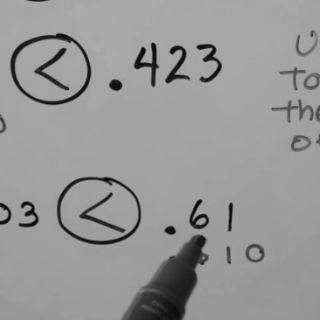.: (163, 222, 177, 236)
0: (244, 238, 266, 264), (108, 75, 124, 93)
1: (225, 199, 237, 232), (223, 245, 235, 266)
2: (165, 42, 191, 86)
3: (194, 40, 223, 84), (17, 198, 42, 228)
4: (131, 41, 162, 87)
6: (186, 196, 211, 231)
